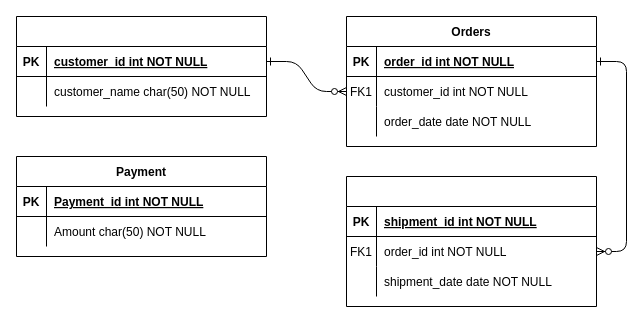
Image size: 643x323. Some labels were removed from this diagram. Here are the shapes that lost their labels. From the top down, the box of each, then its label:
(16, 16, 266, 116): Customers
(346, 176, 596, 306): Shipments
